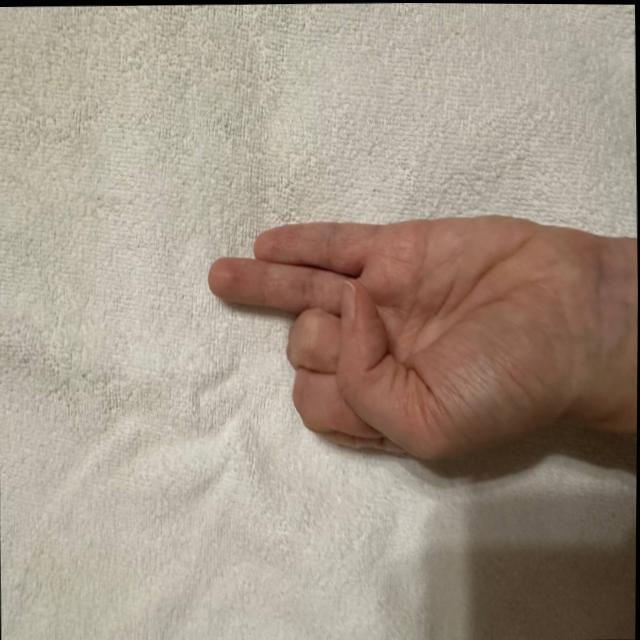i: (194, 185, 610, 513)
